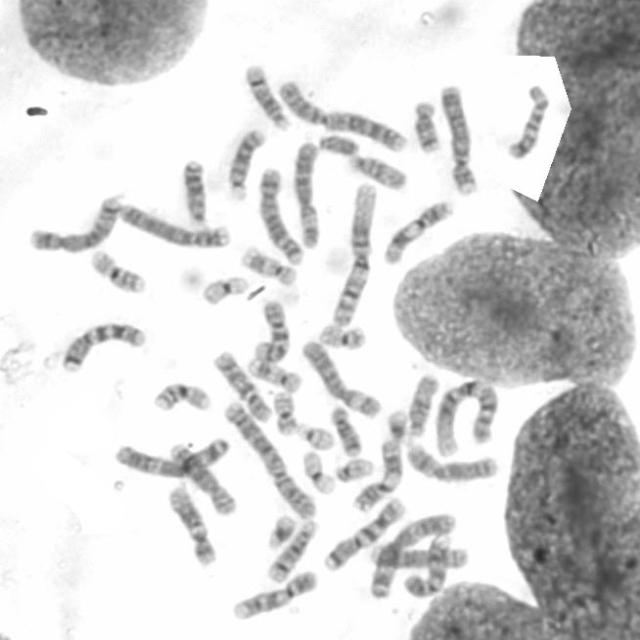A1: (330, 182, 377, 326), (434, 378, 501, 460)
A2: (221, 399, 318, 519), (278, 78, 410, 152)
A3: (365, 512, 459, 602), (112, 438, 231, 482)
B4: (117, 202, 232, 250), (440, 84, 480, 196)
B5: (26, 193, 124, 253), (258, 165, 306, 266)
C10: (212, 348, 275, 425), (252, 298, 292, 363)
C11: (381, 201, 454, 266), (352, 438, 404, 512)
C12: (164, 485, 218, 567), (505, 82, 550, 160)
C6: (301, 340, 384, 418), (291, 141, 320, 250)
C7: (319, 496, 408, 572), (58, 321, 148, 378)
C8: (167, 442, 239, 516), (369, 541, 473, 571)
C9: (228, 569, 319, 621), (402, 530, 451, 598)
D13: (224, 125, 268, 198), (182, 157, 208, 225)
D14: (264, 519, 318, 583), (242, 64, 290, 132)
D15: (344, 153, 410, 193), (406, 372, 442, 438)
E16: (88, 247, 149, 294), (155, 383, 213, 412)
E17: (242, 246, 298, 286), (245, 355, 302, 391)
E18: (332, 405, 364, 457), (412, 100, 441, 153)
F19: (194, 275, 250, 307), (301, 449, 336, 497)
F20: (318, 324, 370, 352), (274, 386, 297, 436)
G21: (264, 513, 298, 552), (386, 408, 408, 441)
G22: (334, 456, 376, 484), (298, 423, 334, 451)
X: (404, 442, 501, 483)
Y: (319, 134, 362, 158)
